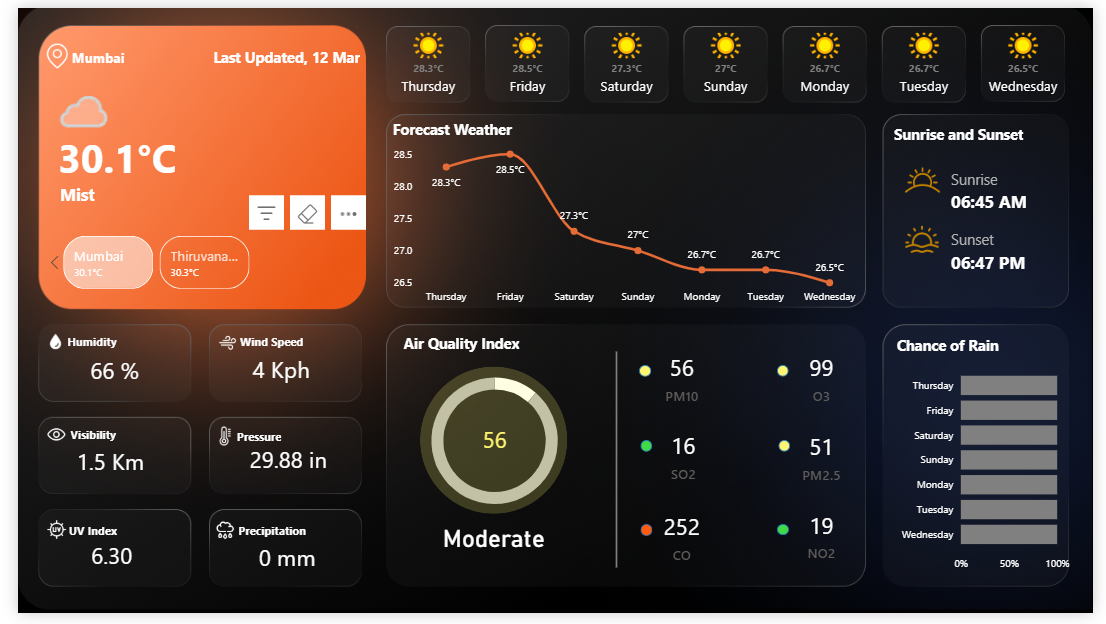

The page's visual inventory and layout, read from the dashboard file:
{"tool":"powerbi","page":{"name":"Page 1","canvas":[1280,720],"ordinal":0},"visuals":[{"type":"advancedSlicerVisual","fields":{"Values":["Locations.location.name"]},"box":[28.3,266.7,388.3,73.3],"z":0},{"type":"shape","box":[48.3,131.7,233.3,90],"z":1000},{"type":"shape","box":[50,193.3,233.3,56.7],"z":2000},{"type":"shape","box":[64,30,160.7,56],"z":3000},{"type":"image","box":[32.7,41.3,29.3,31.3],"z":4000},{"type":"shape","box":[207.3,30,200,56],"z":5000},{"type":"cardVisual","fields":{"Data":["Min(Current.current.condition.icon)"]},"box":[8.3,86.7,148.3,111.7],"z":6000},{"type":"image","box":[31.1,495,30.7,25.7],"z":7000},{"type":"shape","box":[62.3,489.2,95.4,36.9],"z":8000},{"type":"image","box":[31.1,388.1,28.3,19.5],"z":9000},{"type":"shape","box":[59.2,379.2,95.4,36.9],"z":10000},{"type":"image","box":[238.2,388.2,23.9,21.8],"z":11000},{"type":"shape","box":[263.9,379.3,111.4,36.8],"z":12000},{"type":"image","box":[234.6,498.6,25.4,22.9],"z":13000},{"type":"image","box":[31.5,609.2,28.5,23.8],"z":14000},{"type":"image","box":[234.7,609.3,25.3,25.3],"z":15000},{"type":"shape","box":[60,603.1,95.4,36.9],"z":16000},{"type":"shape","box":[262,604,107.3,36.7],"z":17000},{"type":"shape","box":[260,491.4,95.7,37.1],"z":18000},{"type":"card","fields":{"Values":["_Measures.Humidity"]},"box":[63.8,410,101.2,43.8],"z":19000},{"type":"card","fields":{"Values":["_Measures.Wind_Speed"]},"box":[260,407.5,105,47.5],"z":20000},{"type":"card","fields":{"Values":["_Measures.Pressure"]},"box":[255,510,132.5,55],"z":21000},{"type":"card","fields":{"Values":["Sum(Current.current.uv)"]},"box":[55,627.5,111.9,51.2],"z":22000},{"type":"card","fields":{"Values":["_Measures.Precipitation"]},"box":[268.8,631.2,101.2,45],"z":23000},{"type":"card","fields":{"Values":["_Measures.Visibilty"]},"box":[35,508.3,148.3,61.7],"z":24000},{"type":"advancedSlicerVisual","fields":{"Values":["Forecast_Day.Day_Name"]},"box":[428.3,23.3,828.3,98.3],"z":25000},{"type":"lineChart","title":"Forecast Weather","fields":{"Y":["Sum(Forecast_Day.forecast.forecastday.day.avgtemp_c)"],"Category":["Forecast_Day.Day_Name"]},"box":[441.2,131.2,566.2,228.8],"z":26000},{"type":"shape","box":[1042.9,131.4,181.4,37.1],"z":27000},{"type":"shape","box":[1110,202.9,134.3,52.9],"z":28000},{"type":"shape","box":[1110,275.7,134.3,54.3],"z":29000},{"type":"shape","box":[1110,177.1,134.3,52.9],"z":30000},{"type":"shape","box":[1110,248.6,134.3,54.3],"z":31000},{"type":"image","box":[1042.9,255.7,67.1,40],"z":32000},{"type":"image","box":[1037.1,177.1,78.6,55.7],"z":33000},{"type":"hundredPercentStackedBarChart","title":"Chance of Rain","fields":{"Category":["Forecast_Day.Day_Name"],"Y":["Sum(Forecast_Day.forecast.forecastday.day.daily_chance_of_rain)","_Measures.Left_value_Rain"]},"box":[1041.4,388.6,215.7,290],"z":34000},{"type":"shape","box":[458.3,380,181.7,36.7],"z":35000},{"type":"card","fields":{"Values":["Sum(Current.current.air_quality.pm2_5)"]},"box":[903.3,492.4,105.2,81.4],"z":36000},{"type":"card","fields":{"Values":["Sum(Current.current.air_quality.co)"]},"box":[738.3,588.3,105,81.7],"z":37000},{"type":"card","fields":{"Values":["Sum(Current.current.air_quality.so2)"]},"box":[740,491.7,105,81.7],"z":38000},{"type":"card","fields":{"Values":["Sum(Current.current.air_quality.o3)"]},"box":[903.8,397.6,105.2,81.9],"z":39000},{"type":"card","fields":{"Values":["Sum(Current.current.air_quality.pm10)"]},"box":[738.3,398.3,105,81.7],"z":40000},{"type":"card","fields":{"Values":["Sum(Current.current.air_quality.no2)"]},"box":[904.3,586.2,105.2,81.9],"z":41000},{"type":"shape","box":[740,425.4,14.6,14],"z":42000},{"type":"shape","box":[741,515,14,14],"z":43000},{"type":"shape","box":[904.3,424.8,13.8,13.8],"z":44000},{"type":"shape","box":[904.8,514.3,13.8,13.8],"z":45000},{"type":"shape","box":[904.3,613.8,14.3,13.3],"z":46000},{"type":"shape","box":[740.7,613.6,14.3,14.3],"z":47000},{"type":"shape","box":[677.1,408.6,71.4,257.1],"z":48000},{"type":"card","fields":{"Values":["Sum(Current.current.air_quality.pm10)"]},"box":[502.7,461.8,127.3,103.6],"z":49000},{"type":"donutChart","fields":{"Y":["Sum(Current.current.air_quality.pm10)","_Measures.Left_value_PM10"]},"box":[467.3,403.6,198.2,222.7],"z":50000},{"type":"shape","box":[479.1,427.3,175.5,175.5],"z":51000},{"type":"card","fields":{"Values":["_Measures.AQI_StatusAQI Status Text"]},"box":[431.7,598.3,268.3,61.7],"z":52000}]}

Visuals, with their boxes in screenshot pixels (x1, y1, x2, y2), scaled from the page's 1280x720 canvas onto the 1106x624 screenshot:
advancedSlicerVisual - Locations.location.name: <box>24,231,360,295</box>
shape: <box>42,114,243,192</box>
shape: <box>43,168,245,217</box>
shape: <box>55,26,194,75</box>
image: <box>28,36,54,63</box>
shape: <box>179,26,352,75</box>
cardVisual - Min(Current.current.condition.icon): <box>7,75,135,172</box>
image: <box>27,429,53,451</box>
shape: <box>54,424,136,456</box>
image: <box>27,336,51,353</box>
shape: <box>51,329,134,361</box>
image: <box>206,336,226,355</box>
shape: <box>228,329,324,361</box>
image: <box>203,432,225,452</box>
image: <box>27,528,52,549</box>
image: <box>203,528,225,550</box>
shape: <box>52,523,134,555</box>
shape: <box>226,523,319,555</box>
shape: <box>225,426,307,458</box>
card - _Measures.Humidity: <box>55,355,143,393</box>
card - _Measures.Wind_Speed: <box>225,353,315,394</box>
card - _Measures.Pressure: <box>220,442,335,490</box>
card - Sum(Current.current.uv): <box>48,544,144,588</box>
card - _Measures.Precipitation: <box>232,547,320,586</box>
card - _Measures.Visibilty: <box>30,441,158,494</box>
advancedSlicerVisual - Forecast_Day.Day_Name: <box>370,20,1086,105</box>
"Forecast Weather" lineChart: <box>381,114,870,312</box>
shape: <box>901,114,1058,146</box>
shape: <box>959,176,1075,222</box>
shape: <box>959,239,1075,286</box>
shape: <box>959,153,1075,199</box>
shape: <box>959,215,1075,263</box>
image: <box>901,222,959,256</box>
image: <box>896,153,964,202</box>
"Chance of Rain" hundredPercentStackedBarChart: <box>900,337,1086,588</box>
shape: <box>396,329,553,361</box>
card - Sum(Current.current.air_quality.pm2_5): <box>781,427,871,497</box>
card - Sum(Current.current.air_quality.co): <box>638,510,729,581</box>
card - Sum(Current.current.air_quality.so2): <box>639,426,730,497</box>
card - Sum(Current.current.air_quality.o3): <box>781,345,872,416</box>
card - Sum(Current.current.air_quality.pm10): <box>638,345,729,416</box>
card - Sum(Current.current.air_quality.no2): <box>781,508,872,579</box>
shape: <box>639,369,652,381</box>
shape: <box>640,446,652,458</box>
shape: <box>781,368,793,380</box>
shape: <box>782,446,794,458</box>
shape: <box>781,532,794,543</box>
shape: <box>640,532,652,544</box>
shape: <box>585,354,647,577</box>
card - Sum(Current.current.air_quality.pm10): <box>434,400,544,490</box>
donutChart - Sum(Current.current.air_quality.pm10) x _Measures.Left_value_PM10: <box>404,350,575,543</box>
shape: <box>414,370,566,522</box>
card - _Measures.AQI_StatusAQI Status Text: <box>373,519,605,572</box>
